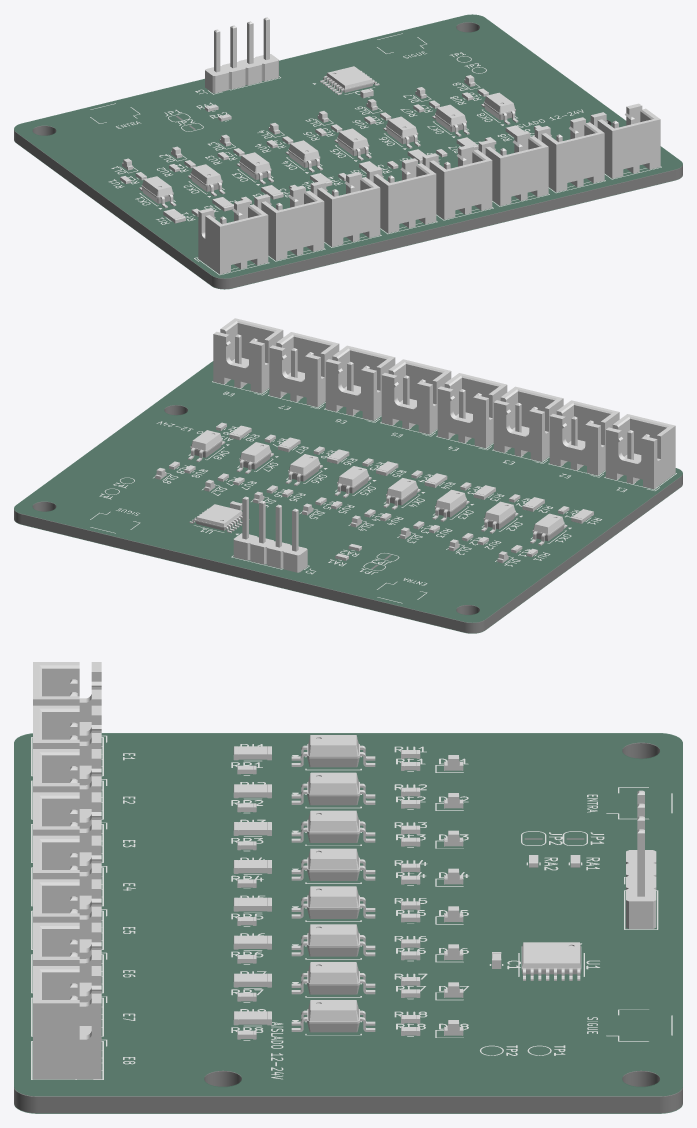
Rendered from AP_Input.glb.
The picture shows the model from 3 angles, top to bottom: view 1: azimuth 30°, elevation 25°; view 2: azimuth 150°, elevation 25°; view 3: azimuth 270°, elevation 25°; orthographic projection. The views are drawn at different scales.
Visible parts, largest first — view 1: =>[0:1:1:14], =>[0:1:1:12], =>[0:1:1:10], J4, J7, J11, J10, J8, J5, J6, J9, J3 (+10 smaller); view 2: =>[0:1:1:14], =>[0:1:1:12], =>[0:1:1:10], J4, J6, J8, J7, J9, J11, J10, J5, J3 (+10 smaller); view 3: =>[0:1:1:14], =>[0:1:1:12], =>[0:1:1:10], J11, J8, J5, J9, J10, J7, J6, J4, J3 (+10 smaller).
Boxes of the visible parts, x1,y1,x2,y2 form: =>[0:1:1:14]: (14, 15, 682, 289); =>[0:1:1:12]: (14, 14, 682, 278); =>[0:1:1:10]: (90, 33, 661, 275); J4: (198, 199, 268, 274); J7: (366, 158, 436, 233); J11: (590, 103, 660, 178); J10: (534, 117, 604, 192); J8: (422, 144, 492, 219); J5: (254, 185, 324, 260); J6: (310, 172, 380, 246); J9: (478, 131, 548, 205); J3: (205, 17, 278, 93); =>[0:1:1:14]: (14, 362, 682, 633); =>[0:1:1:12]: (14, 361, 682, 622); =>[0:1:1:10]: (90, 381, 676, 603); J4: (605, 414, 675, 488); J6: (493, 386, 563, 461); J8: (381, 359, 451, 434); J7: (437, 373, 507, 447); J9: (325, 345, 395, 420); J11: (213, 318, 283, 393); J10: (269, 332, 339, 406); J5: (549, 400, 619, 475); J3: (233, 496, 307, 572); =>[0:1:1:14]: (14, 734, 682, 1113); =>[0:1:1:12]: (14, 733, 682, 1096); =>[0:1:1:10]: (31, 735, 672, 1079); J11: (33, 966, 101, 1079); J8: (33, 835, 101, 915); J5: (33, 705, 101, 785); J9: (33, 879, 101, 958); J10: (33, 922, 101, 1002); J7: (33, 792, 101, 871); J6: (33, 749, 101, 828); J4: (33, 662, 101, 741); J3: (626, 790, 656, 928).
Bounding box in the file's own units: 0.072 × 0.0119 × 0.056.
